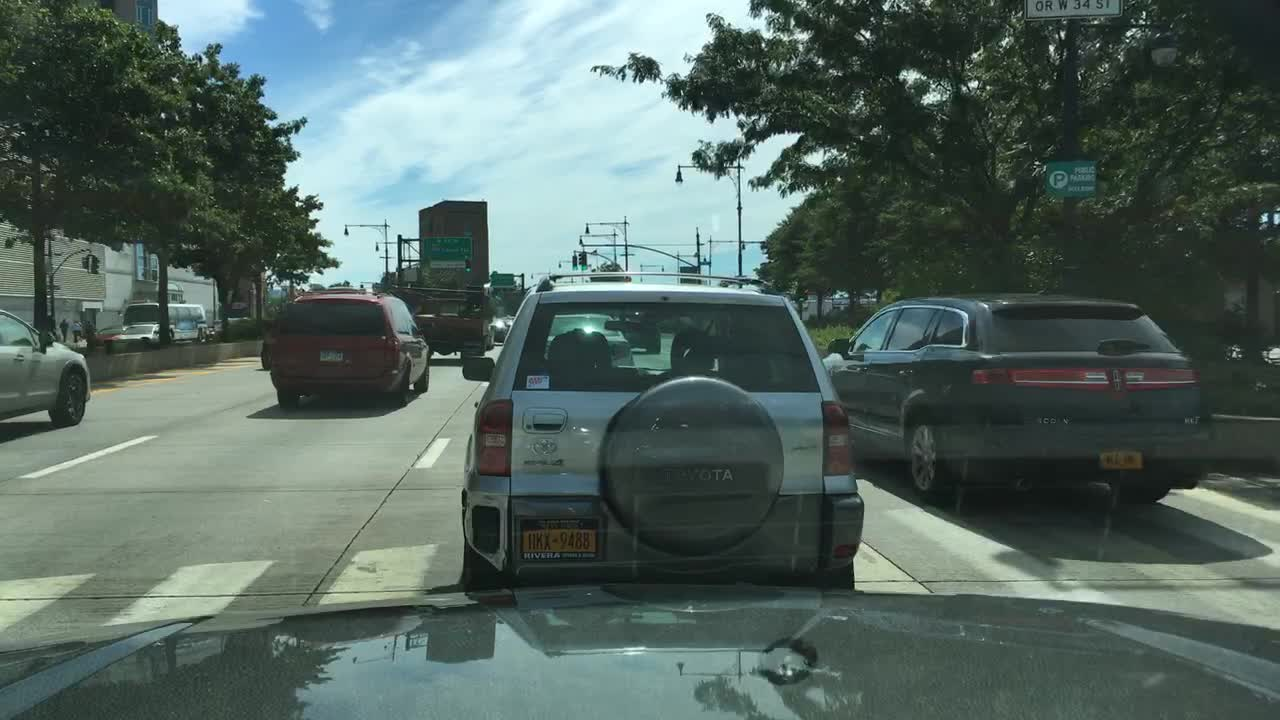bus: (122, 300, 206, 345)
car: (456, 268, 864, 596), (817, 287, 1219, 504), (264, 285, 431, 412), (0, 304, 89, 439), (117, 321, 170, 352), (259, 320, 289, 366), (91, 322, 132, 351), (493, 316, 515, 339), (202, 324, 218, 341)
person: (58, 316, 70, 341), (72, 319, 82, 344), (83, 319, 94, 338)
traffic light: (567, 253, 578, 273), (90, 254, 101, 273), (79, 254, 89, 272), (580, 253, 589, 270), (465, 255, 472, 274)
traffic sign: (1022, 0, 1121, 22), (1044, 159, 1093, 198), (420, 235, 473, 270), (489, 271, 514, 288), (678, 264, 698, 283), (404, 268, 415, 283)
truck: (412, 296, 495, 360)
